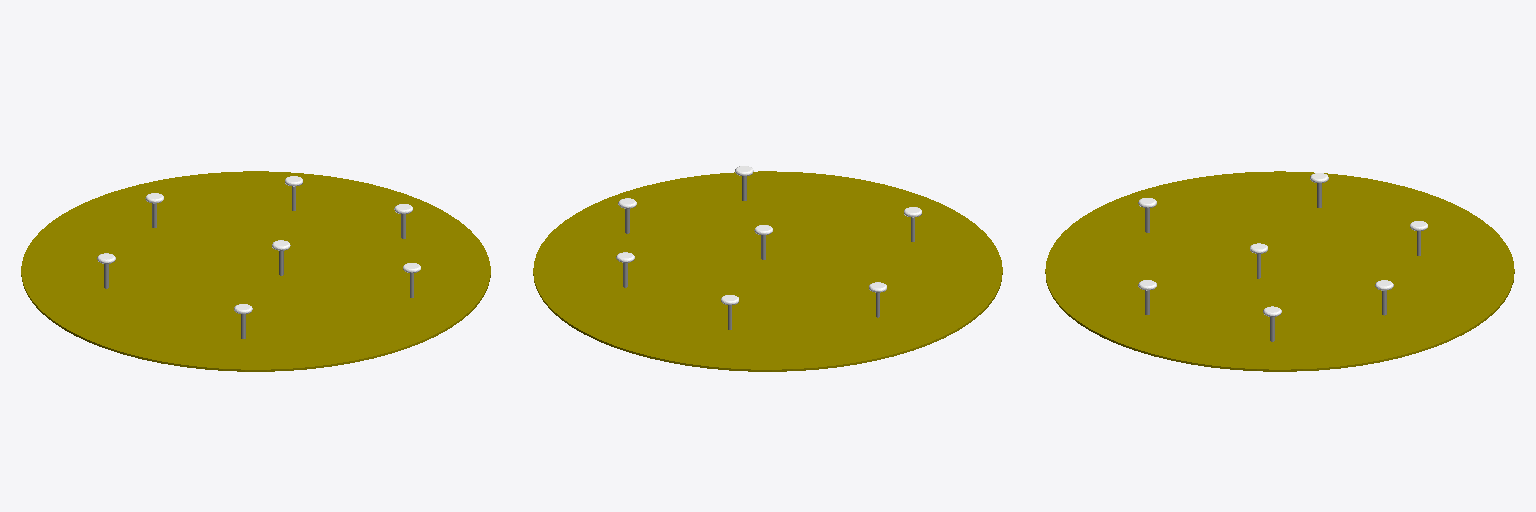
3 views of the same model, side by side, from view 1: azimuth 30°, elevation 25°; view 2: azimuth 150°, elevation 25°; view 3: azimuth 270°, elevation 25° (orthographic).
Parts seen in each view (by area): view 1: Ride_Surface, Ride_Surface_Teacup_4_Cylinder2; view 2: Ride_Surface, Ride_Surface_Teacup_4_Cylinder2; view 3: Ride_Surface, Ride_Surface_Teacup_4_Cylinder2.
Part boxes in pixels (left/top/right/bottom): Ride_Surface: left=21, top=171, right=490, bottom=371; Ride_Surface_Teacup_4_Cylinder2: left=97, top=176, right=420, bottom=338; Ride_Surface: left=533, top=171, right=1002, bottom=371; Ride_Surface_Teacup_4_Cylinder2: left=616, top=166, right=921, bottom=329; Ride_Surface: left=1045, top=171, right=1514, bottom=371; Ride_Surface_Teacup_4_Cylinder2: left=1138, top=173, right=1427, bottom=341.
Size of the model in its own units: 9.91 by 0.7774 by 9.91.
3 materials, 1 textured.